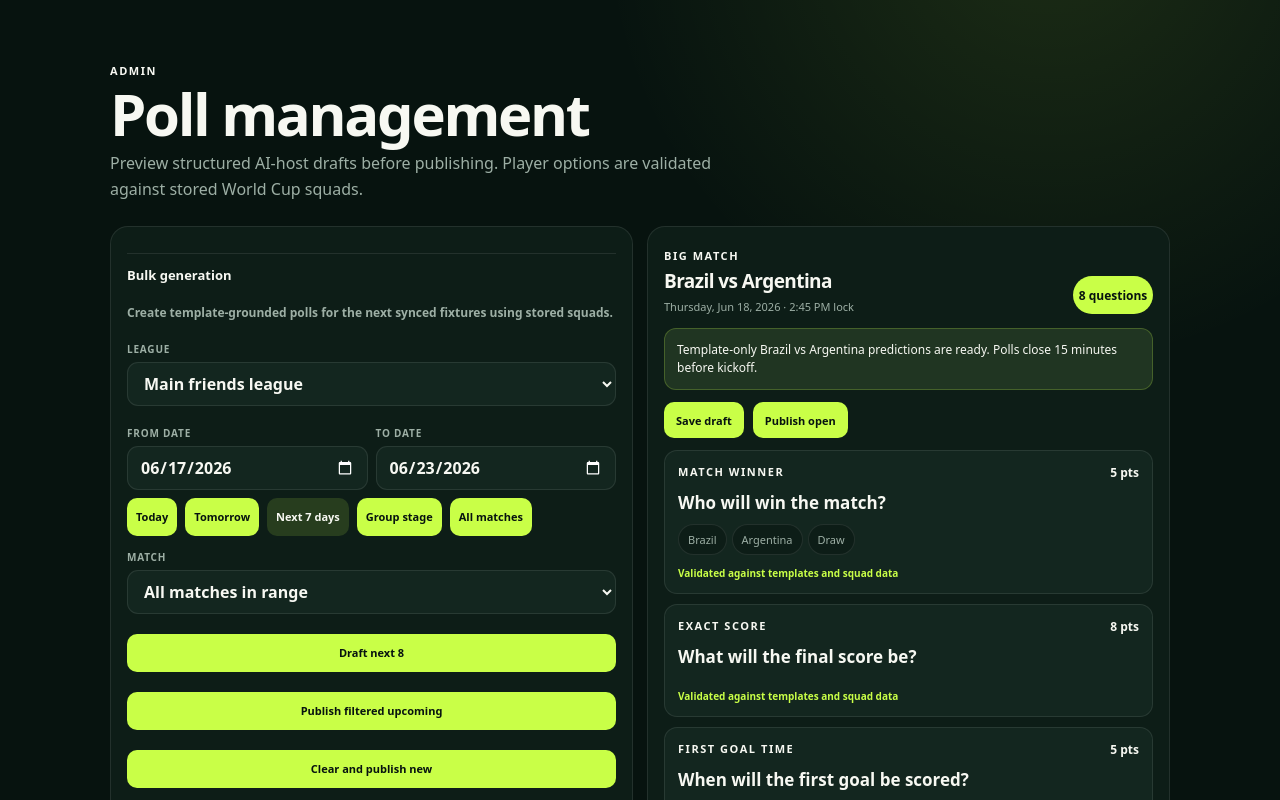
fantasy prediction game › filters poll management matches by date and blocks completed match publishing
Type "2026-06-16" into the date field labelled "From date" at (247, 468), box [127, 446, 368, 490]
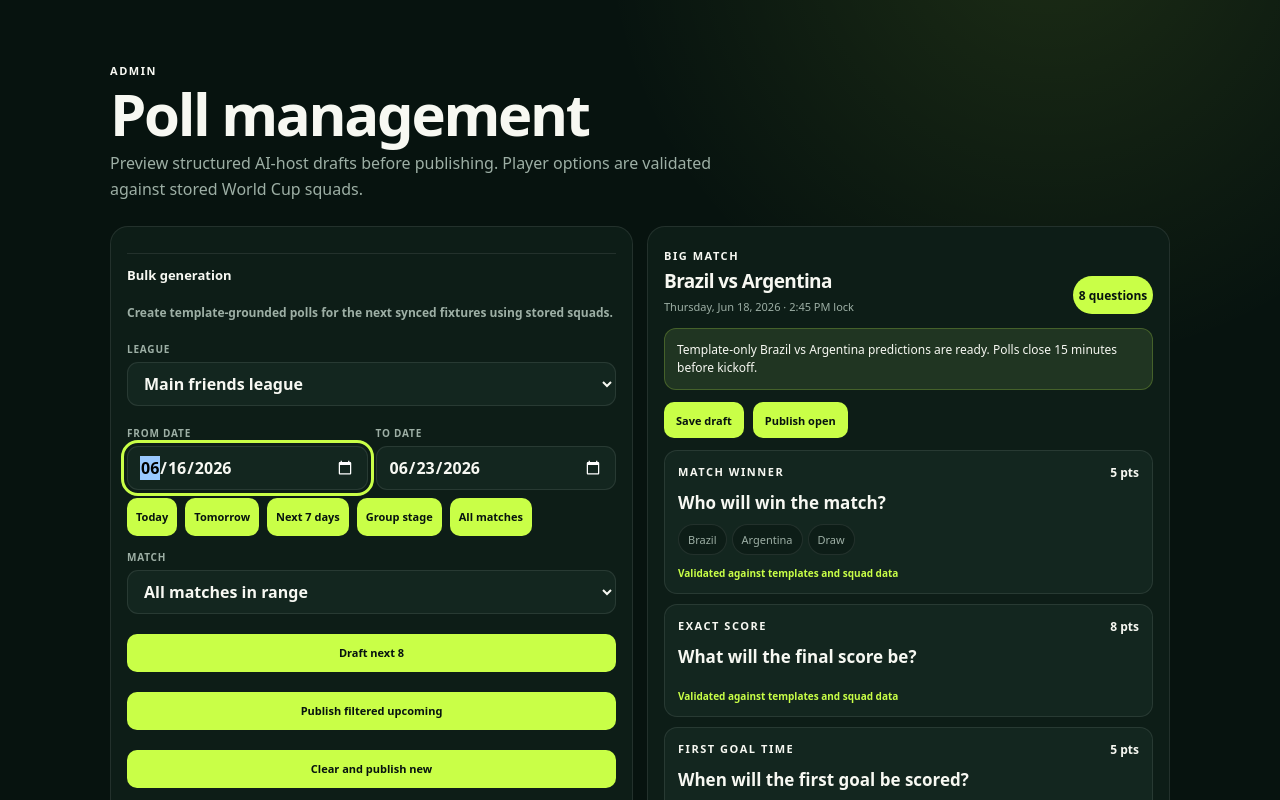
Type "2026-06-16" into the date field labelled "To date" at (496, 468), box [376, 446, 616, 490]
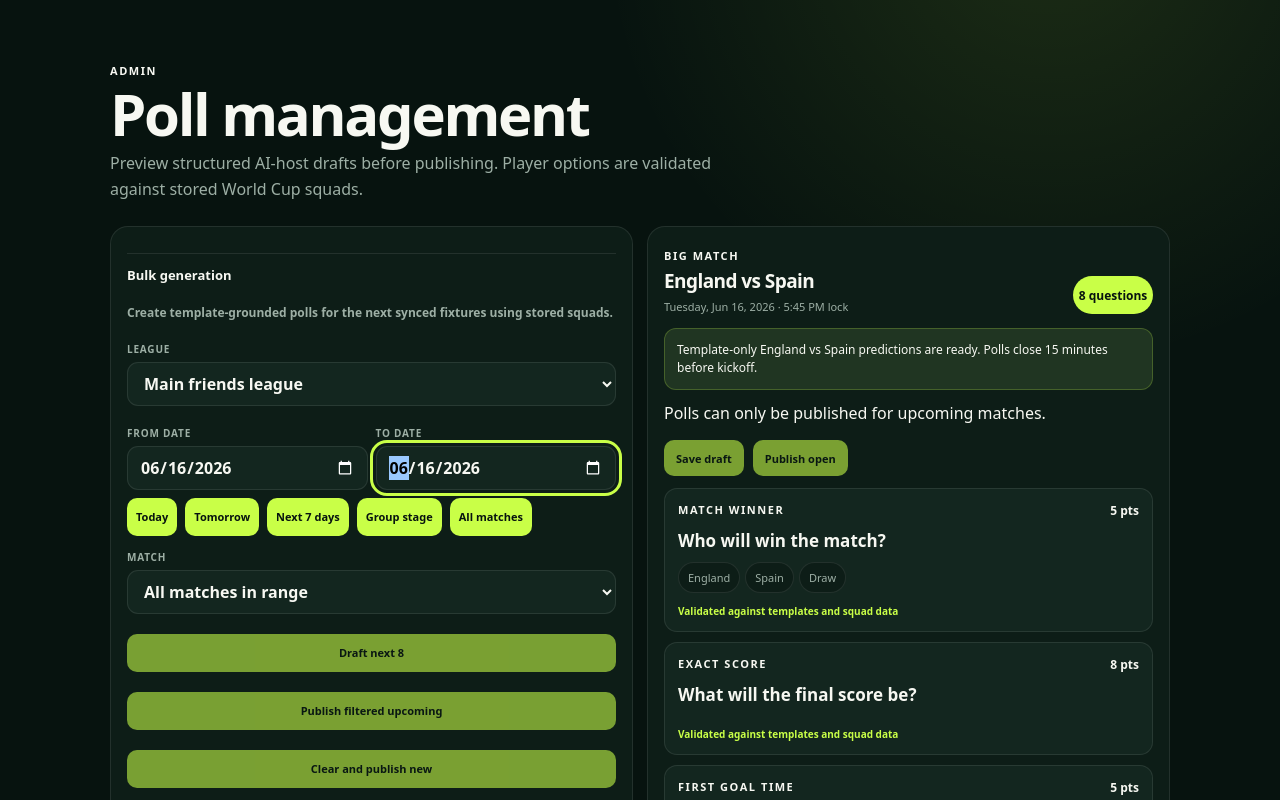
Now the heading "England vs Spain" is shown, box [664, 268, 814, 294]
Now the text "Polls can only be published for upcoming matches." is shown, box [664, 402, 1046, 424]
Now the button "Publish open" is disabled, box [753, 440, 848, 476]
